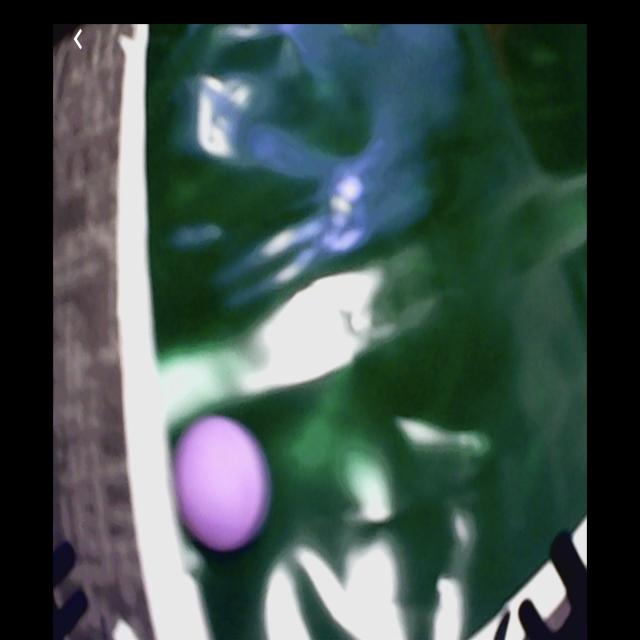ball: (173, 415, 270, 548)
